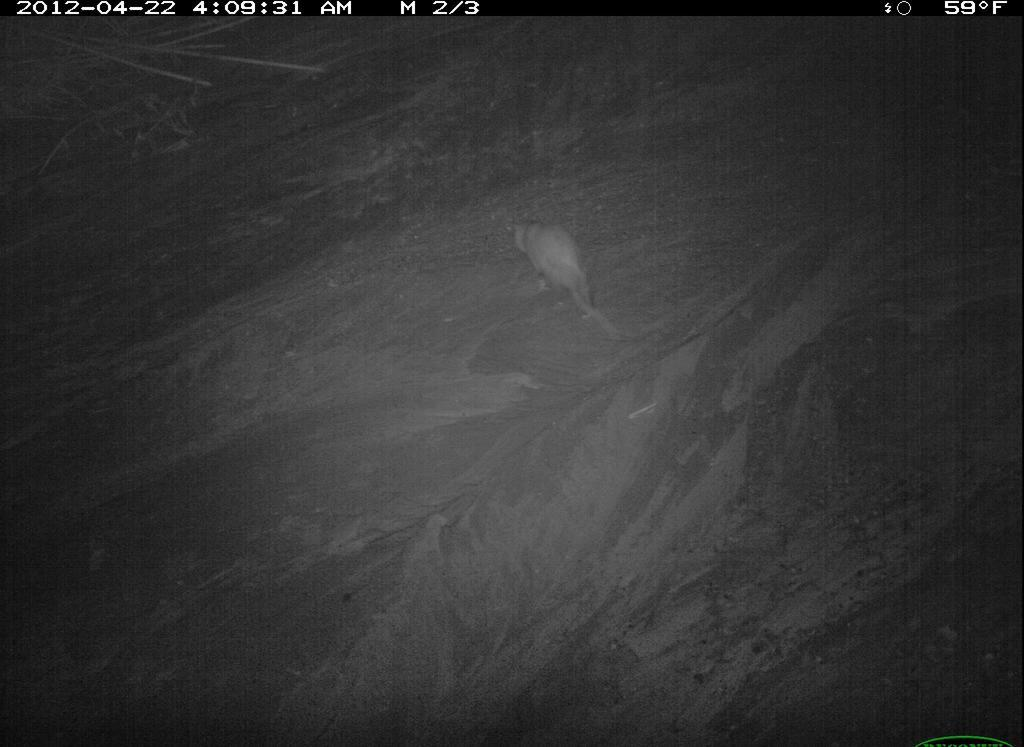opossum: (1015, 430, 1024, 711)
